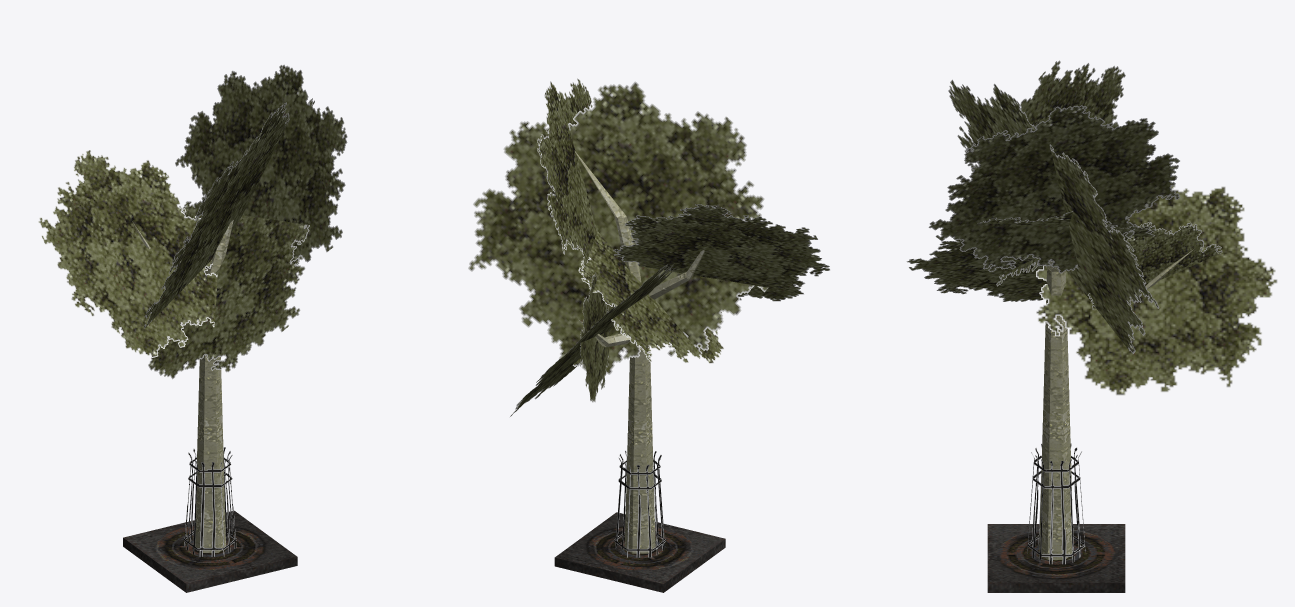
Rendered from psx_tree.glb.
3 views of the same model, side by side, from view 1: azimuth 30°, elevation 25°; view 2: azimuth 150°, elevation 25°; view 3: azimuth 270°, elevation 25° (orthographic). The views are drawn at different scales.
Visible parts, largest first — view 1: lowpoly_Tree.leaves, lowpoly_Tree.Base, lowpoly_Tree, lowpoly_Tree.002; view 2: lowpoly_Tree.leaves, lowpoly_Tree.Base, lowpoly_Tree, lowpoly_Tree.002; view 3: lowpoly_Tree.leaves, lowpoly_Tree.Base, lowpoly_Tree, lowpoly_Tree.002.
Boxes of the visible parts, x1,y1,x2,y2 form: lowpoly_Tree.leaves: (38,64,347,379); lowpoly_Tree.Base: (123,510,297,592); lowpoly_Tree: (132,220,233,552); lowpoly_Tree.002: (184,447,236,556); lowpoly_Tree.leaves: (468,78,829,416); lowpoly_Tree.Base: (554,512,725,592); lowpoly_Tree: (574,150,704,553); lowpoly_Tree.002: (614,450,665,557); lowpoly_Tree.leaves: (906,60,1277,395); lowpoly_Tree.Base: (987,524,1125,592); lowpoly_Tree: (1039,248,1194,559); lowpoly_Tree.002: (1027,443,1085,564).
Size of the model in its own units: 4.5 by 6.26 by 4.
Materials: 2 (2 with a texture image).
